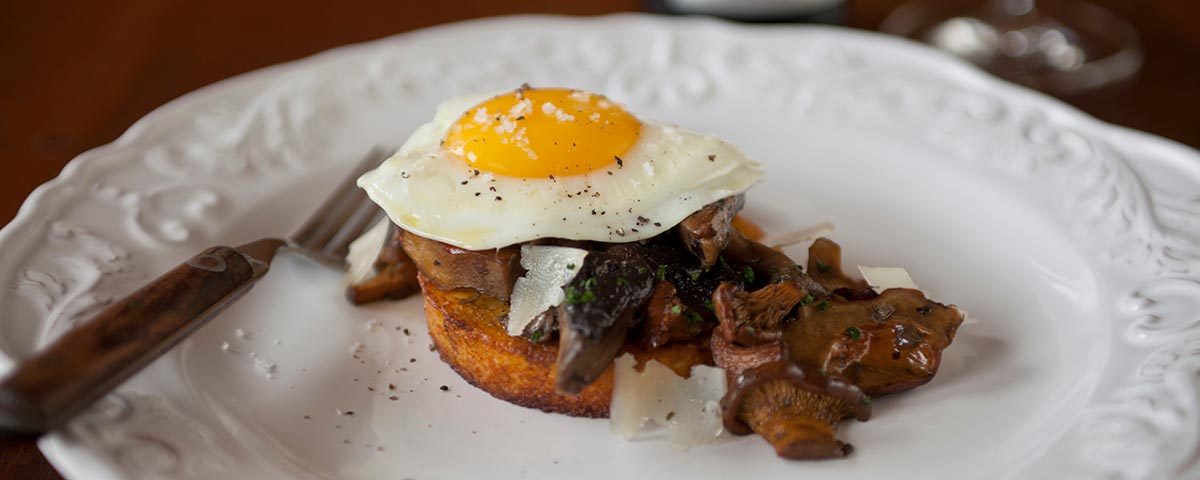fried egg: (379, 90, 732, 237)
slice of bread: (417, 316, 706, 429)
